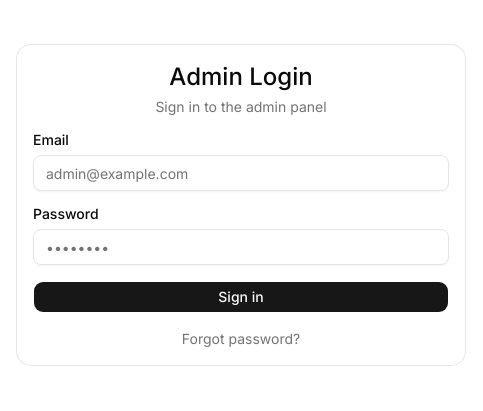
it: AdminLoginPage › shows invalid email error for bad email format
The image size is (483, 411).
Step 1. Type "notanemail" into the field labelled "Email" → [241, 173], box [33,155,449,191]
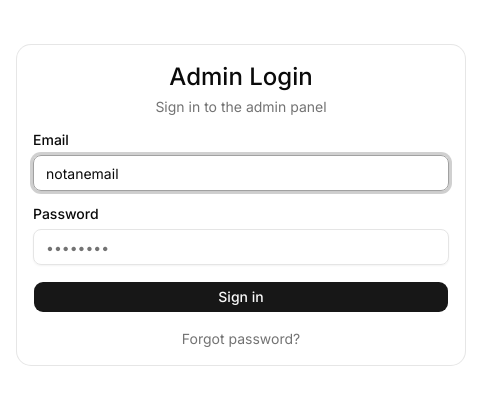
Step 2. Submit the form "Email Password Sign in", box [33,133,449,313]
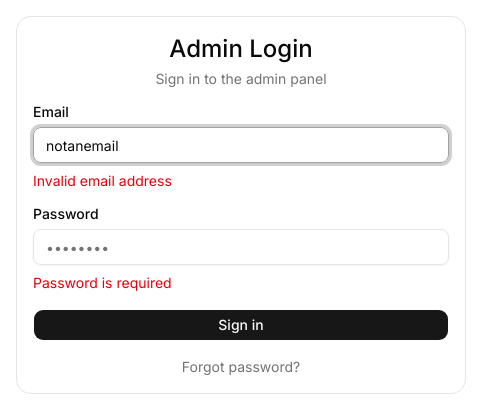
Result: the text "Invalid email address" is shown at [33,172,172,189]
